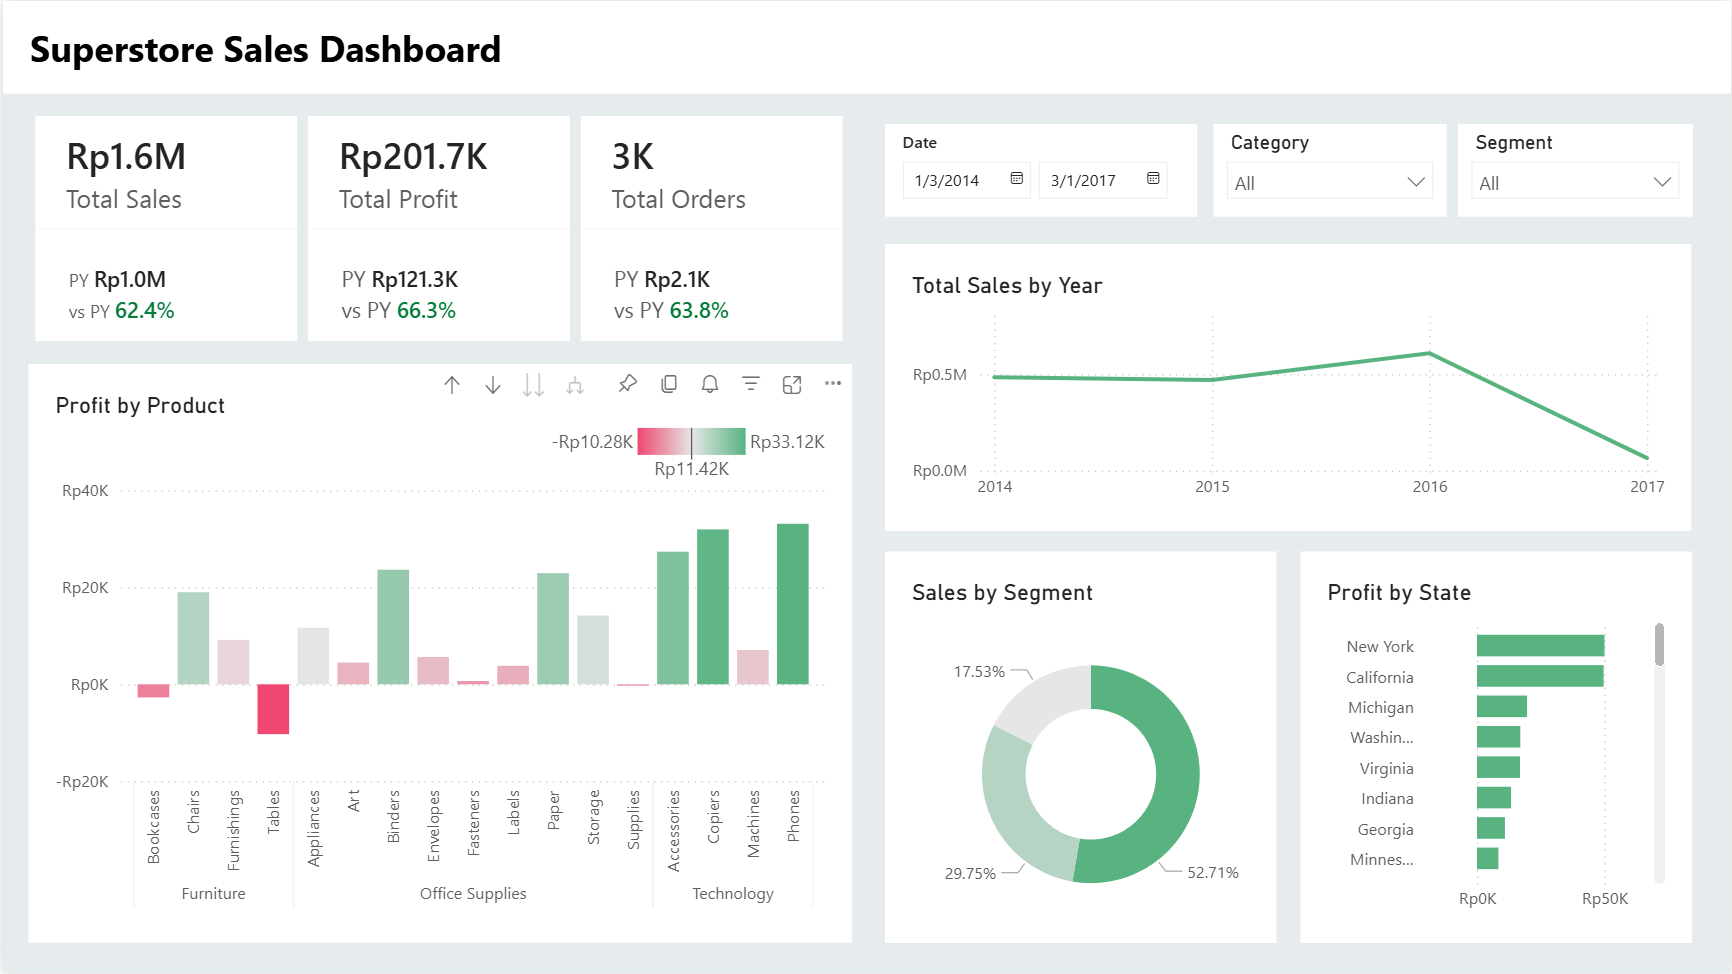

The dashboard page shown, as its layout file describes it:
{"tool":"powerbi","page":{"name":"Page 1","canvas":[1280,720],"ordinal":0},"visuals":[{"type":"cardVisual","fields":{"Data":["Orders.Total Sales","Orders.Total Profit","Orders.Total Orders"]},"box":[6.2,67.5,633.8,201.2],"z":0},{"type":"shape","box":[0,0,1280,68.8],"z":1000},{"type":"slicer","fields":{"Values":["Calendar.Date"]},"box":[653.8,91.2,231.2,68.8],"z":2000},{"type":"lineChart","fields":{"Category":["Calendar.Year"],"Y":["Orders.Total Sales"]},"box":[653.8,180,597.5,212.5],"z":3000},{"type":"slicer","fields":{"Values":["Orders.Category"]},"box":[896.2,91.2,172.5,68.8],"z":4000},{"type":"columnChart","title":"Profit by Product","fields":{"Category":["Orders.Category","Orders.Sub-Category"],"Y":["Orders.Total Profit"]},"box":[18.8,268.8,610,428.8],"z":5000},{"type":"donutChart","title":"Sales by Segment","fields":{"Category":["Orders.Segment"],"Y":["Orders.Total Sales"]},"box":[653.8,407.5,290,290],"z":6000},{"type":"clusteredBarChart","title":"Profit by State","fields":{"Category":["Orders.State"],"Y":["Orders.Total Profit"]},"box":[961.2,407.5,290,290],"z":7000},{"type":"slicer","fields":{"Values":["Orders.Segment"]},"box":[1077.5,91.2,173.8,68.8],"z":8000}]}

Visuals, with their boxes in screenshot pixels (x1, y1, x2, y2), scaled from the page's 1280x720 canvas onto the 1732x974 screenshot:
cardVisual - Orders.Total Sales x Orders.Total Profit: bbox=[8, 91, 866, 363]
shape: bbox=[0, 0, 1731, 93]
slicer - Calendar.Date: bbox=[885, 123, 1198, 216]
lineChart - Calendar.Year x Orders.Total Sales: bbox=[885, 244, 1693, 531]
slicer - Orders.Category: bbox=[1213, 123, 1446, 216]
"Profit by Product" columnChart: bbox=[25, 364, 851, 944]
"Sales by Segment" donutChart: bbox=[885, 551, 1277, 944]
"Profit by State" clusteredBarChart: bbox=[1301, 551, 1693, 944]
slicer - Orders.Segment: bbox=[1458, 123, 1693, 216]
